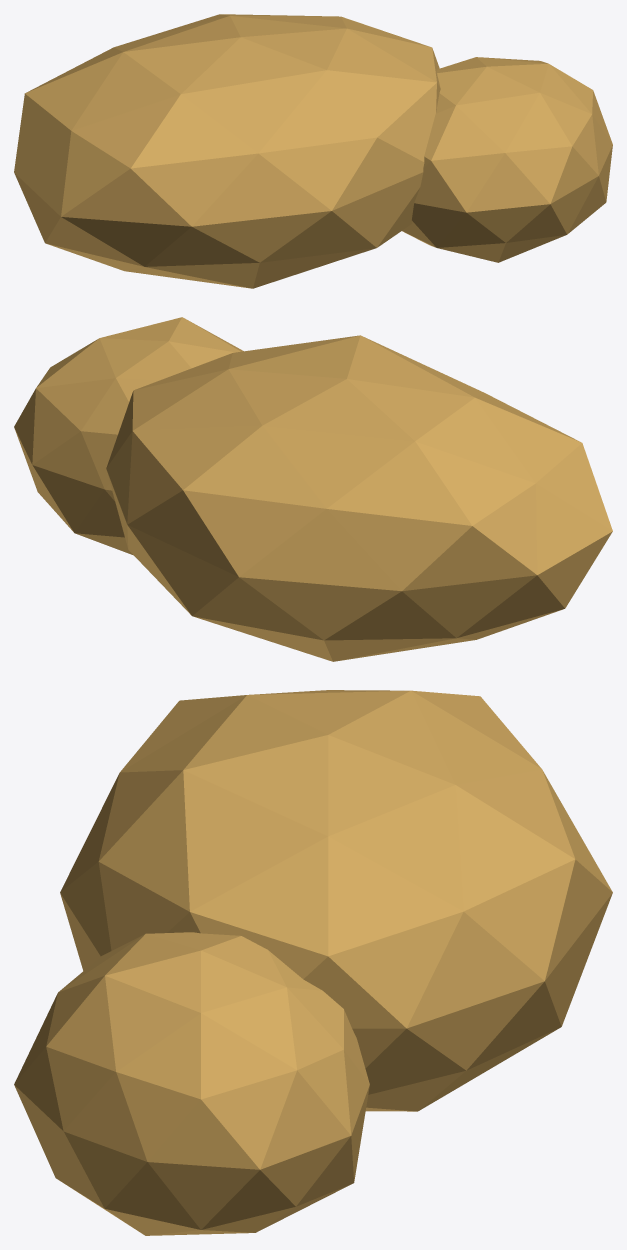
The model's file is dune-rock.glb.
3 renders of one model, top to bottom at view 1: azimuth 30°, elevation 25°; view 2: azimuth 150°, elevation 25°; view 3: azimuth 270°, elevation 25°, orthographic. The views are drawn at different scales.
Parts seen in each view (by area): view 1: sand-dune-rock; view 2: sand-dune-rock; view 3: sand-dune-rock.
Boxes of the visible parts, <box> form: sand-dune-rock: <box>14,14,612,288</box>; sand-dune-rock: <box>14,317,612,661</box>; sand-dune-rock: <box>14,690,612,1235</box>.
Size of the model in its own units: 0.7951 by 0.3297 by 0.5276.
